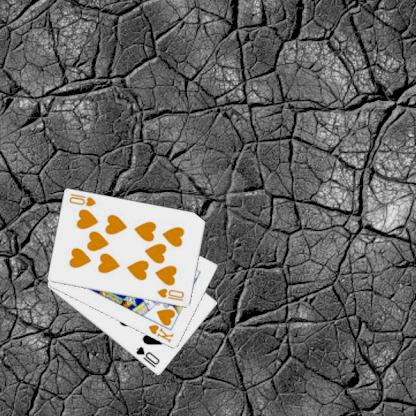10H: (156, 285, 188, 303), (68, 191, 100, 208)
10S: (135, 344, 163, 369)
KH: (147, 322, 177, 344)
